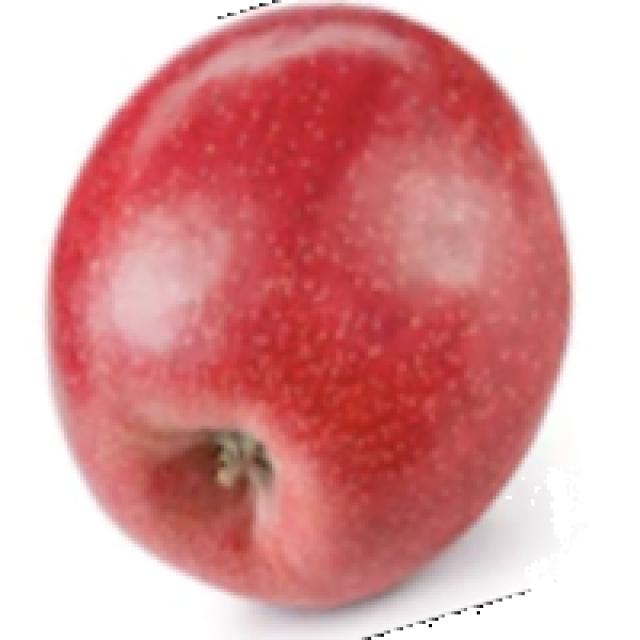apple: (35, 0, 582, 637)
